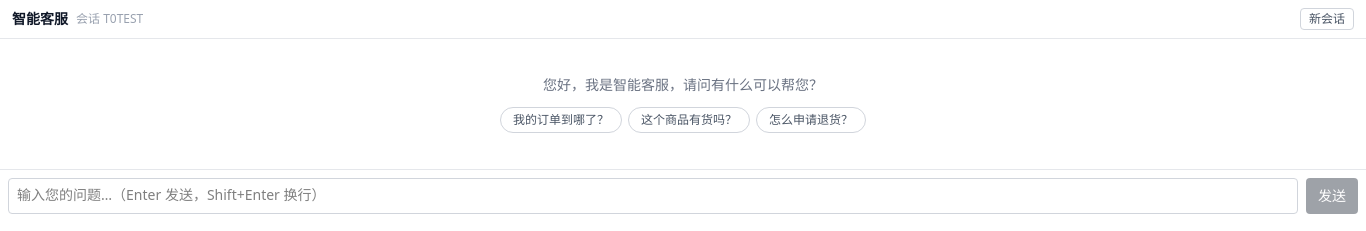
Test case: SupportPanel › 工具轨迹渲染 label 与耗时
Type "hi" into the text box with placeholder "输入您的问题…（Enter 发送，Shift+Enter 换行）". click: [653, 196]
box: top-left (8, 178), bottom-right (1298, 214)
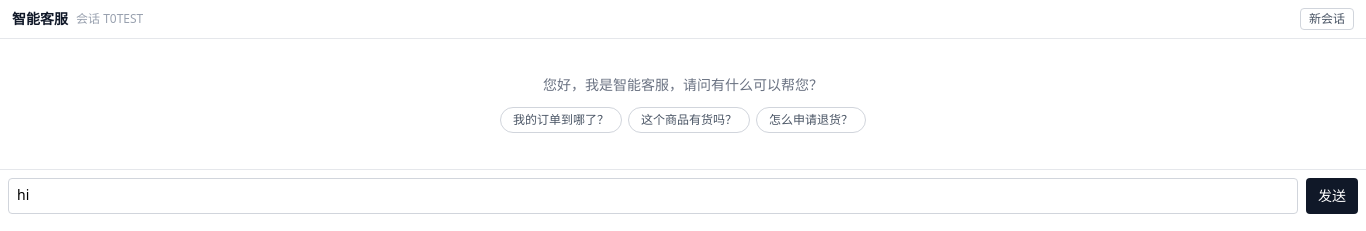
Click the button "发送". click: [1332, 196]
box: top-left (1306, 178), bottom-right (1358, 214)
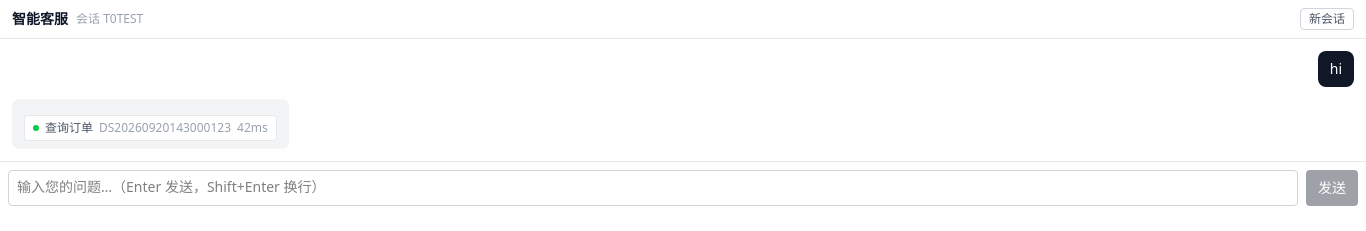
expect the list named "工具调用" is shown: met, box top-left (24, 115), bottom-right (277, 141)
expect the text "查询订单" is shown: met, box top-left (45, 120), bottom-right (93, 136)
expect the text "DS20260920143000123" is shown: met, box top-left (99, 120), bottom-right (231, 136)
